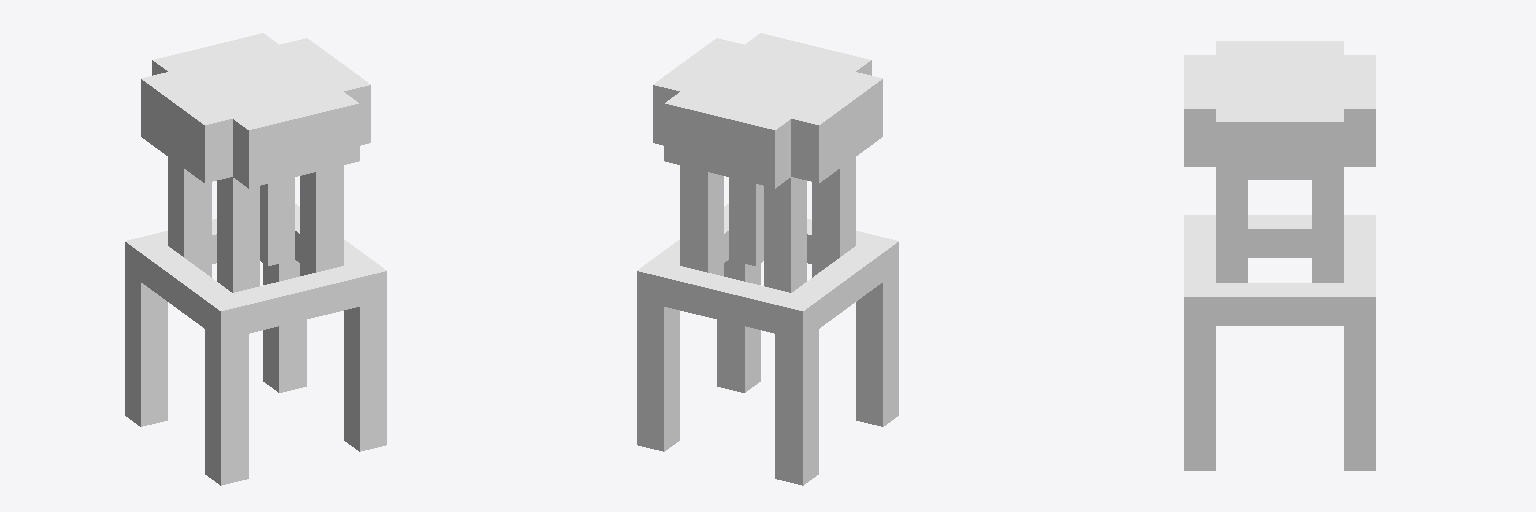
Rendered from StoreDecor_BambooBarStool.obj.
3 renders of one model, left to right at view 1: azimuth 30°, elevation 25°; view 2: azimuth 150°, elevation 25°; view 3: azimuth 270°, elevation 25°, orthographic.
Visible parts, largest first — view 1: StoreDecor_BambooBarStool; view 2: StoreDecor_BambooBarStool; view 3: StoreDecor_BambooBarStool.
Part boxes in pixels (bbox=[...]): StoreDecor_BambooBarStool: bbox=[125, 33, 386, 485]; StoreDecor_BambooBarStool: bbox=[637, 33, 898, 485]; StoreDecor_BambooBarStool: bbox=[1184, 41, 1375, 470].
Bounding box in the file's own units: 6 × 12 × 6.